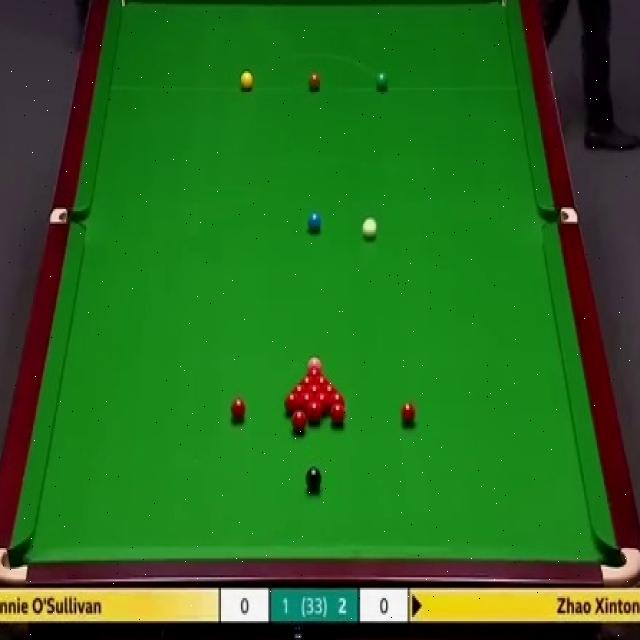black-ball: (306, 466, 322, 492)
blue-ball: (308, 211, 322, 230)
brown-ball: (308, 74, 322, 90)
green-ball: (375, 69, 389, 94)
pink-ball: (307, 357, 324, 374)
red-ball: (284, 391, 302, 416), (328, 405, 347, 427), (230, 398, 246, 423), (399, 400, 414, 426), (291, 408, 307, 431), (307, 400, 323, 422), (313, 393, 331, 412), (329, 392, 345, 412), (321, 382, 338, 397), (301, 394, 313, 414), (307, 382, 322, 398), (292, 382, 308, 396), (300, 374, 316, 388), (314, 372, 328, 388)
white-ball: (362, 218, 377, 242)
yellow-ball: (239, 70, 254, 92)
